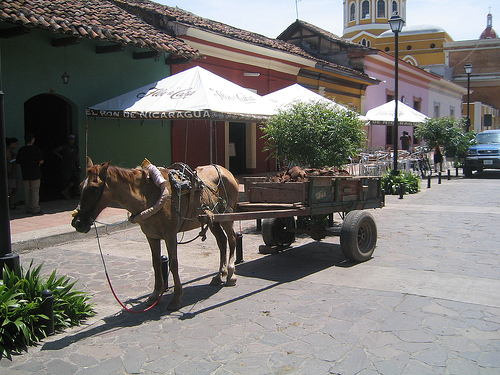horse: (71, 157, 241, 313)
